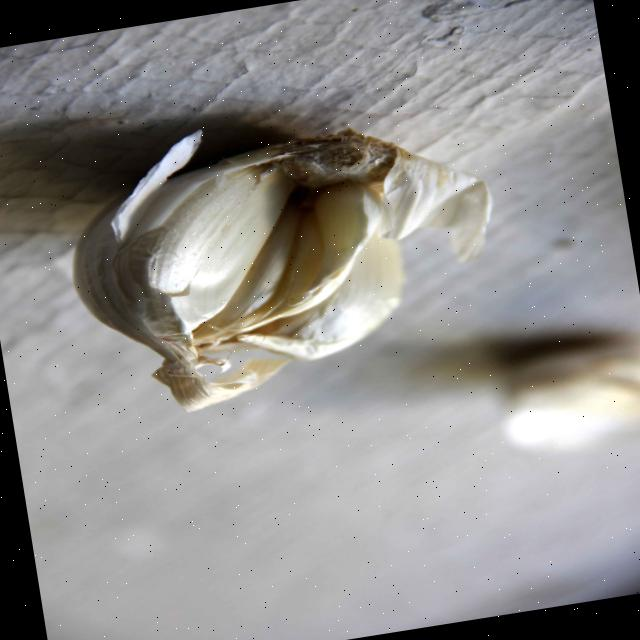garlic: (73, 130, 490, 410), (502, 342, 640, 451)
